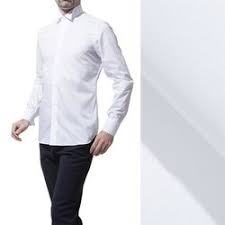S_shirt: (25, 4, 135, 148)
